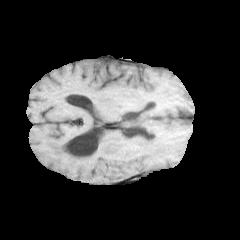glioma: (45, 112, 188, 169)
